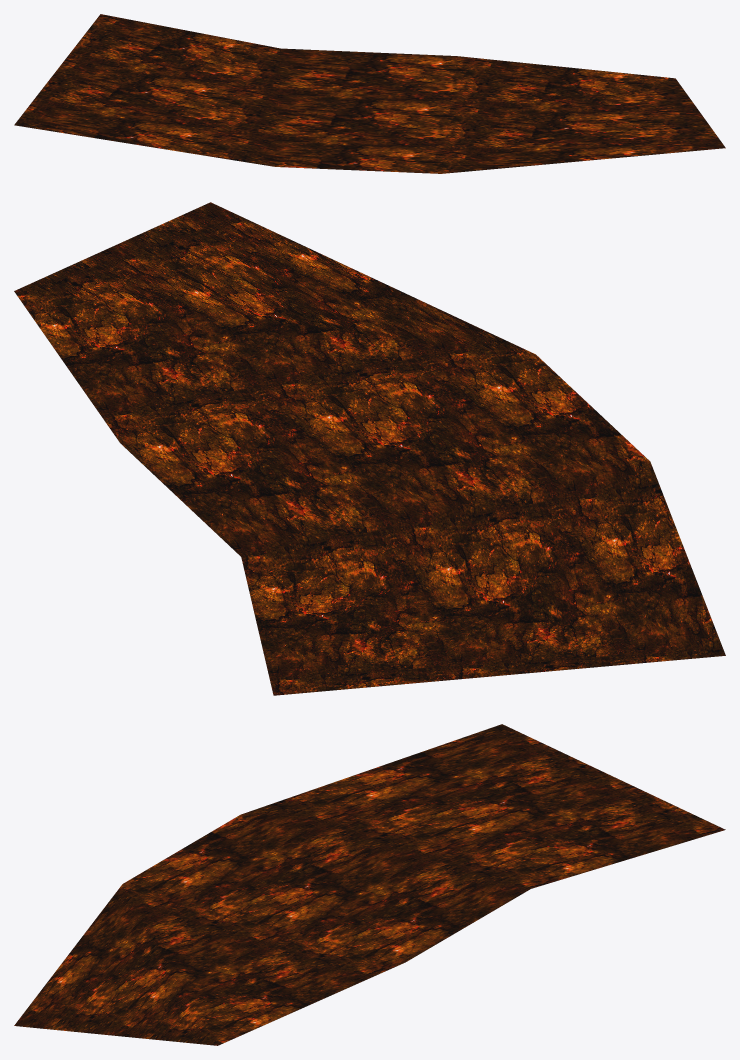
File: water05.fbx
3 views of the same model, one above another, from view 1: azimuth 30°, elevation 25°; view 2: azimuth 150°, elevation 25°; view 3: azimuth 270°, elevation 25° (orthographic). The views are drawn at different scales.
Visible parts, largest first — view 1: water5; view 2: water5; view 3: water5.
Boxes of the visible parts, x1,y1,x2,y2 form: water5: [14, 14, 725, 173]; water5: [14, 202, 725, 695]; water5: [14, 724, 725, 1045].
Bounding box in the file's own units: 5469 × 0.0114 × 5114.
